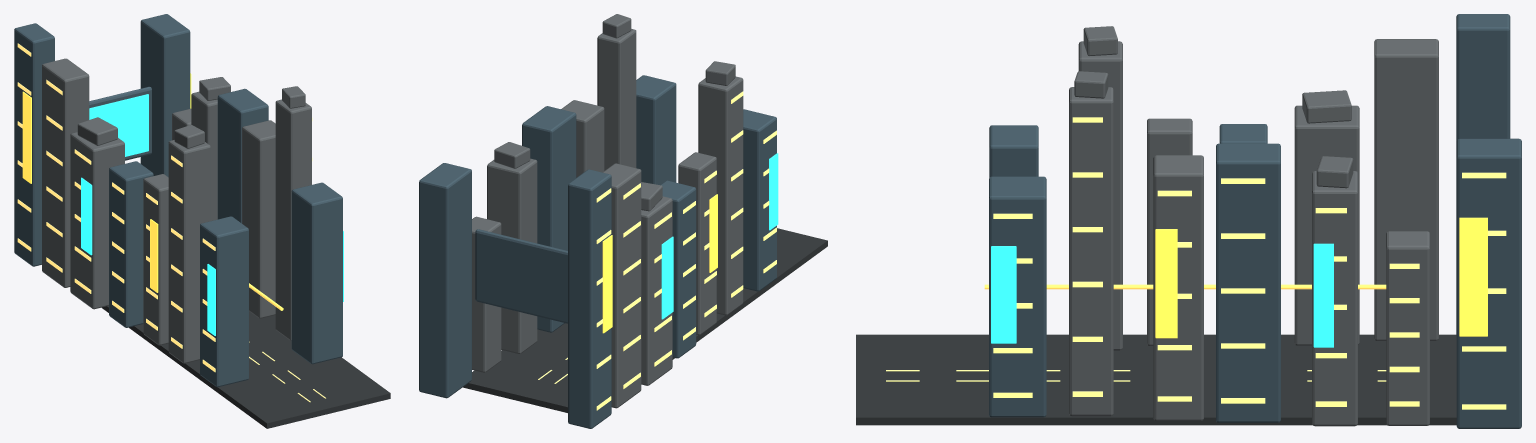
File: shinjuku-city.glb
3 views of the same model, side by side, from view 1: azimuth 30°, elevation 25°; view 2: azimuth 150°, elevation 25°; view 3: azimuth 270°, elevation 25° (orthographic). The views are drawn at different scales.
Parts seen in each view (by area): view 1: Street, Right_Tower_00, Left_Tower_01, Left_Tower_00, Left_Tower_05, Left_Tower_06, Right_Tower_02, Left_Tower_04, Right_Tower_06, Right_Tower_01, Left_Tower_03, Right_Tower_03 (+13 smaller); view 2: Right_Tower_06, Left_Tower_06, Street, Left_Tower_01, Left_Tower_05, DOOH_Screen, Right_Tower_03, Left_Tower_00, Right_Tower_04, Right_Tower_01, Left_Tower_04, Right_Tower_00 (+12 smaller); view 3: Street, Right_Tower_03, Right_Tower_06, Left_Tower_05, Right_Tower_01, Right_Tower_00, Right_Tower_02, Right_Tower_04, Right_Tower_05, Left_Tower_06, Left_Tower_04, Left_Tower_01 (+12 smaller).
Part boxes in pixels (<box>): Street: <box>102,306,390,428</box>; Right_Tower_00: <box>291,182,342,364</box>; Left_Tower_01: <box>168,140,210,363</box>; Left_Tower_00: <box>200,216,248,387</box>; Left_Tower_05: <box>42,58,89,287</box>; Left_Tower_06: <box>14,23,54,266</box>; Right_Tower_02: <box>242,120,275,318</box>; Left_Tower_04: <box>70,132,124,309</box>; Right_Tower_06: <box>140,14,190,177</box>; Right_Tower_01: <box>275,99,311,340</box>; Left_Tower_03: <box>109,161,153,327</box>; Right_Tower_03: <box>217,88,268,223</box>; Right_Tower_06: <box>419,163,471,398</box>; Left_Tower_06: <box>568,169,611,428</box>; Street: <box>463,228,827,412</box>; Left_Tower_01: <box>698,76,743,315</box>; Left_Tower_05: <box>603,163,641,408</box>; DOOH_Screen: <box>475,229,567,323</box>; Right_Tower_03: <box>522,106,576,332</box>; Left_Tower_00: <box>743,109,776,291</box>; Right_Tower_04: <box>487,158,537,353</box>; Right_Tower_01: <box>597,29,636,170</box>; Left_Tower_04: <box>641,196,672,385</box>; Right_Tower_00: <box>636,75,676,184</box>; Street: <box>856,334,1456,425</box>; Right_Tower_03: <box>1216,143,1280,422</box>; Right_Tower_06: <box>1456,138,1521,428</box>; Left_Tower_05: <box>1374,39,1438,340</box>; Right_Tower_01: <box>1069,87,1113,416</box>; Right_Tower_00: <box>989,176,1046,417</box>; Right_Tower_02: <box>1153,155,1203,420</box>; Right_Tower_04: <box>1312,171,1357,426</box>; Right_Tower_05: <box>1386,231,1429,425</box>; Left_Tower_06: <box>1456,14,1510,335</box>; Left_Tower_04: <box>1294,105,1359,345</box>; Left_Tower_01: <box>1078,41,1122,350</box>.
Size of the model in its own units: 10.92 by 16.08 by 28.44.
